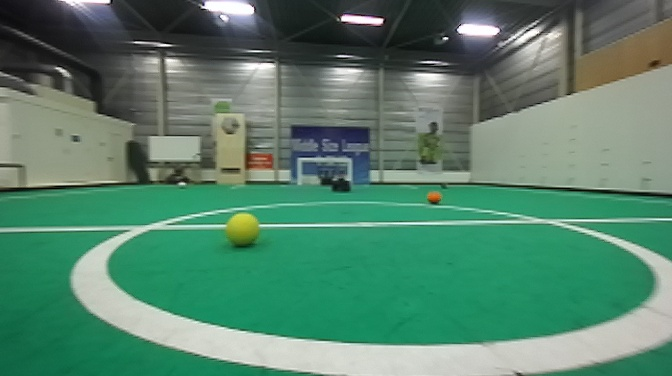ball: (223, 210, 262, 249), (427, 191, 443, 206), (177, 181, 186, 189)
goal: (294, 156, 353, 186)
robot: (331, 167, 353, 193), (317, 164, 338, 186)
